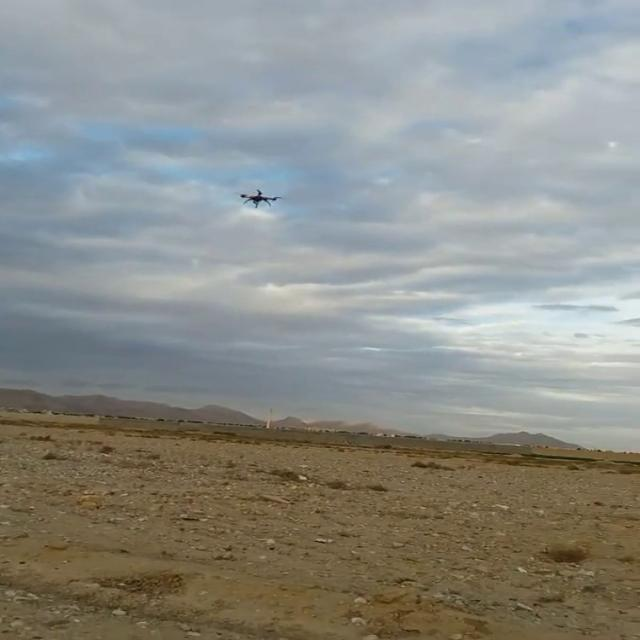drone: (235, 184, 286, 212)
